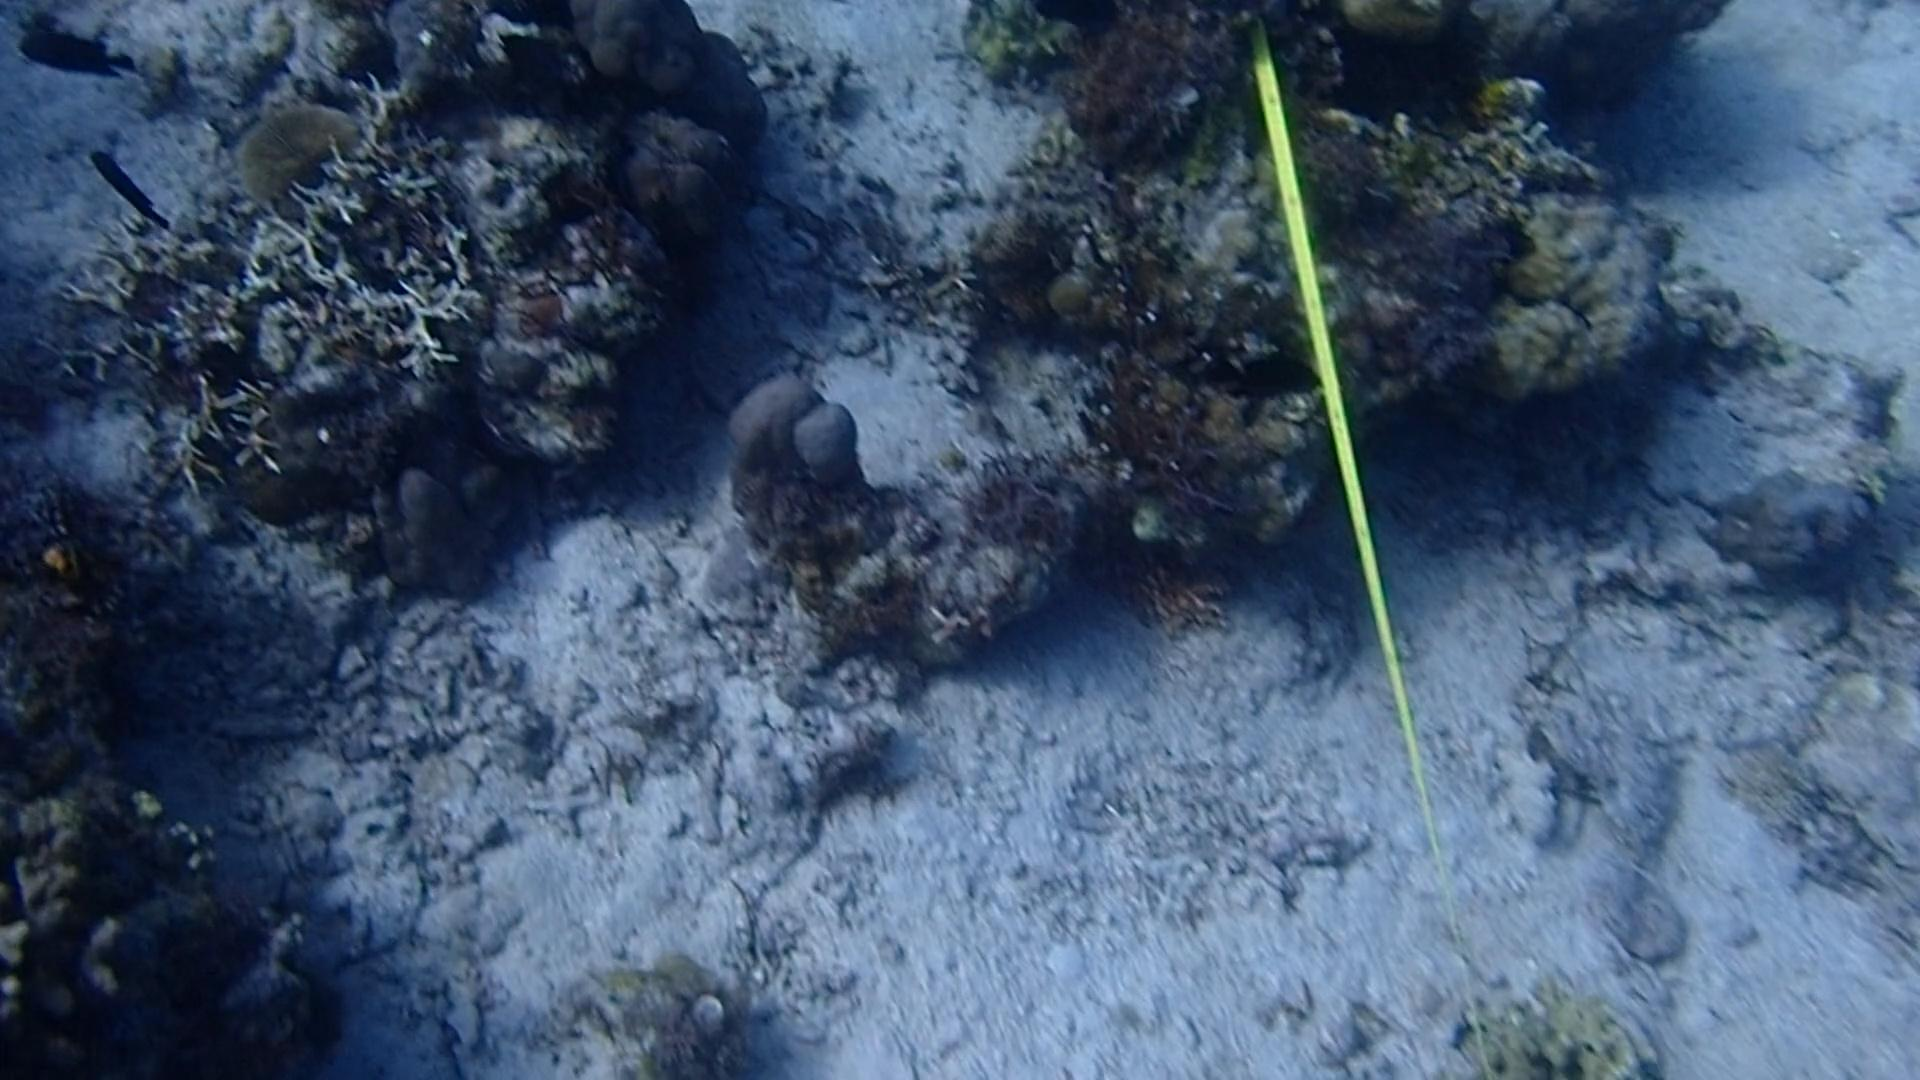Dark Fish: (61, 131, 189, 247), (483, 8, 583, 127), (11, 11, 141, 95), (1188, 343, 1327, 418)
